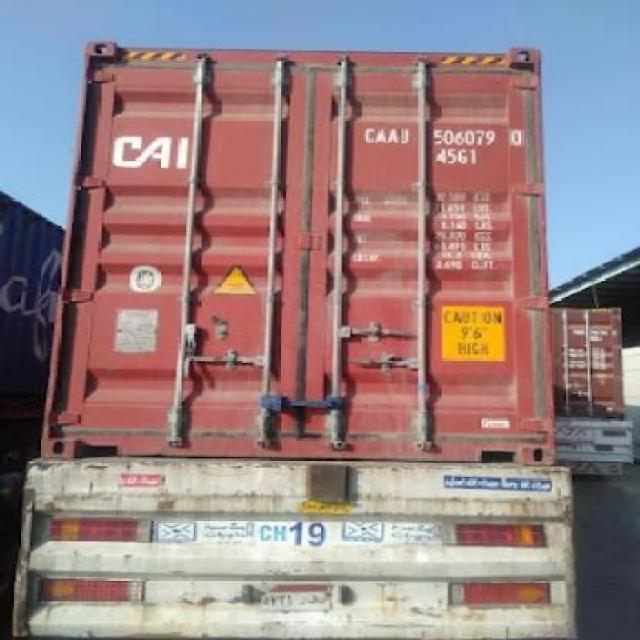ISO: (434, 148, 477, 166)
container_number: (368, 125, 520, 146)
